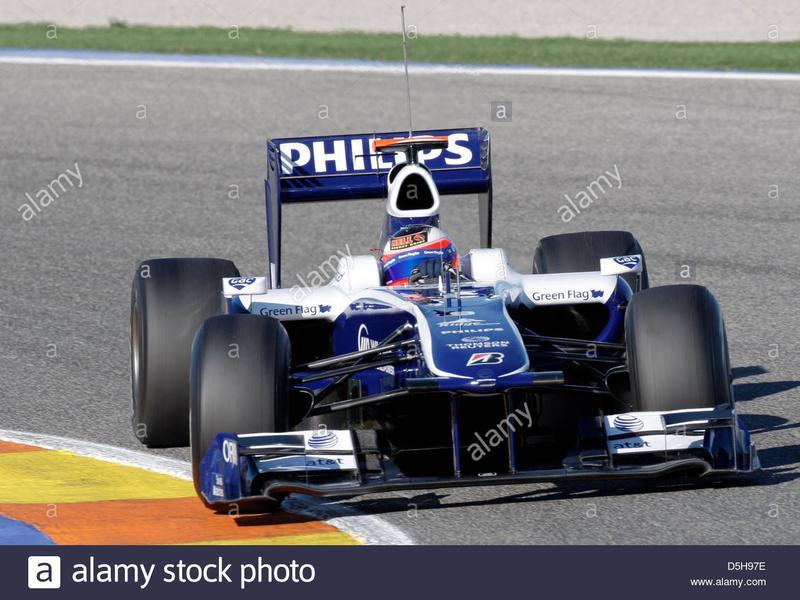f1: (124, 97, 772, 505)
